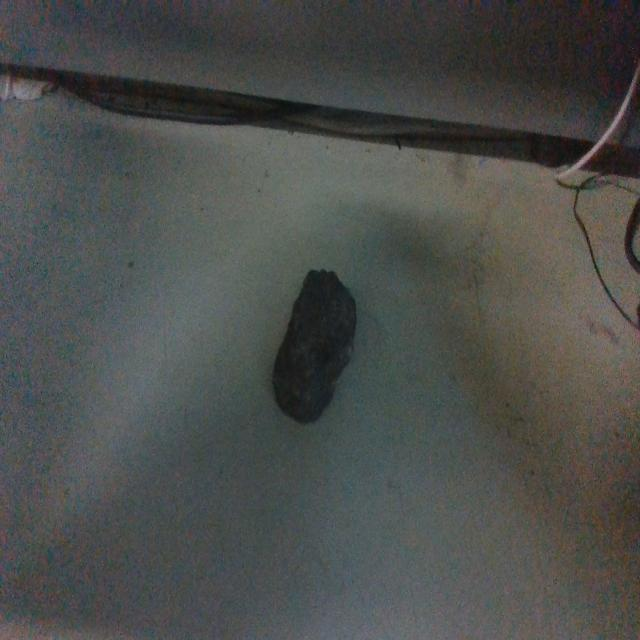stone: (272, 268, 358, 424)
